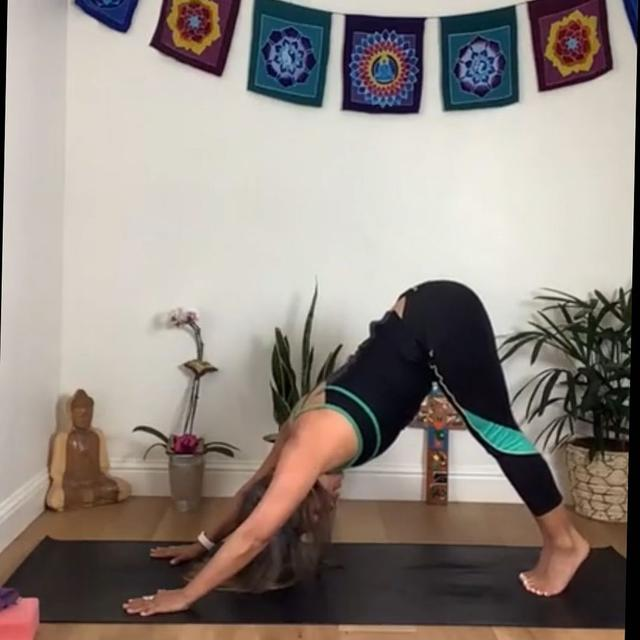Downward-Facing_Dog: (114, 274, 595, 620)
